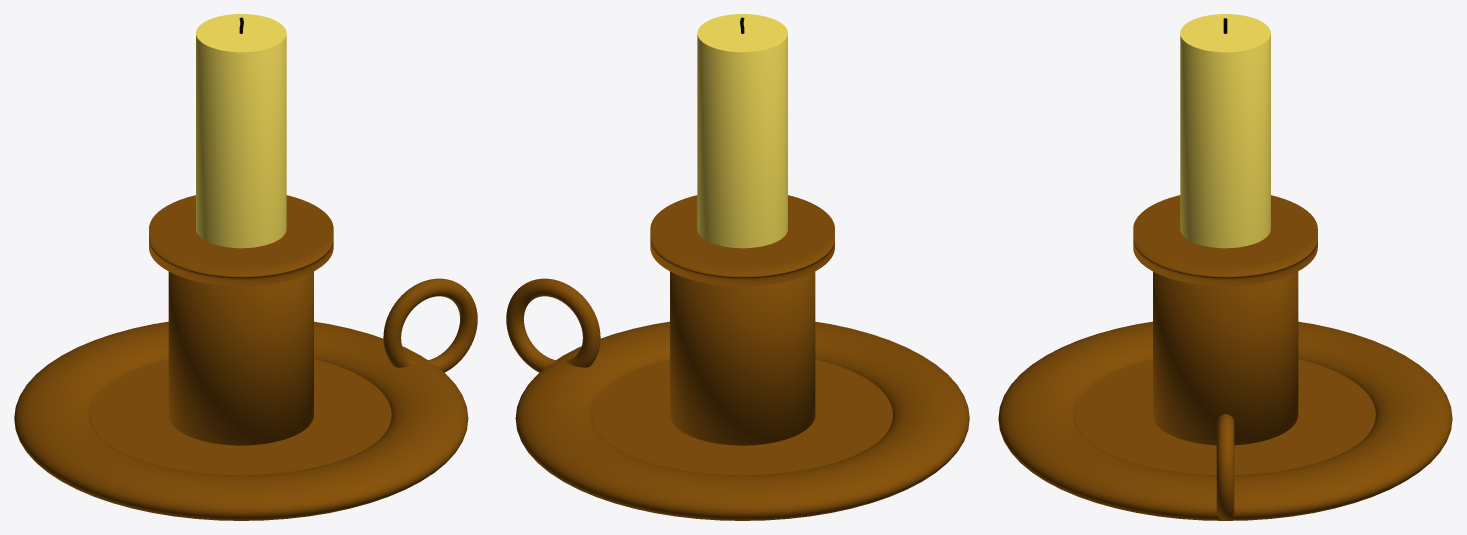
The model's file is CandleStick2.obj.
The picture shows the model from 3 angles, left to right: view 1: azimuth 30°, elevation 25°; view 2: azimuth 150°, elevation 25°; view 3: azimuth 270°, elevation 25°; orthographic projection.
Visible parts, largest first — view 1: Torus, Cylinder.002, Cylinder, Cylinder.001, Cylinder.003, Torus.002; view 2: Torus, Cylinder.002, Cylinder, Cylinder.001, Cylinder.003, Torus.002; view 3: Torus, Cylinder.002, Cylinder, Cylinder.001, Cylinder.003, Torus.002.
Part boxes in pixels (box(x1,y1,x2,y2)): Torus: box(14, 321, 468, 520); Cylinder.002: box(168, 271, 313, 445); Cylinder: box(196, 14, 286, 248); Cylinder.001: box(91, 359, 391, 475); Cylinder.003: box(149, 195, 333, 286); Torus.002: box(383, 278, 477, 372); Torus: box(515, 321, 969, 520); Cylinder.002: box(670, 271, 815, 445); Cylinder: box(697, 14, 787, 248); Cylinder.001: box(592, 359, 892, 475); Cylinder.003: box(650, 195, 834, 286); Torus.002: box(506, 278, 600, 372); Torus: box(998, 321, 1452, 520); Cylinder.002: box(1153, 271, 1298, 445); Cylinder: box(1180, 14, 1270, 248); Cylinder.001: box(1075, 359, 1375, 474); Cylinder.003: box(1133, 195, 1317, 286); Torus.002: box(1216, 414, 1234, 520).
Size of the model in its own units: 0.5335 by 0.4912 by 0.4858.
